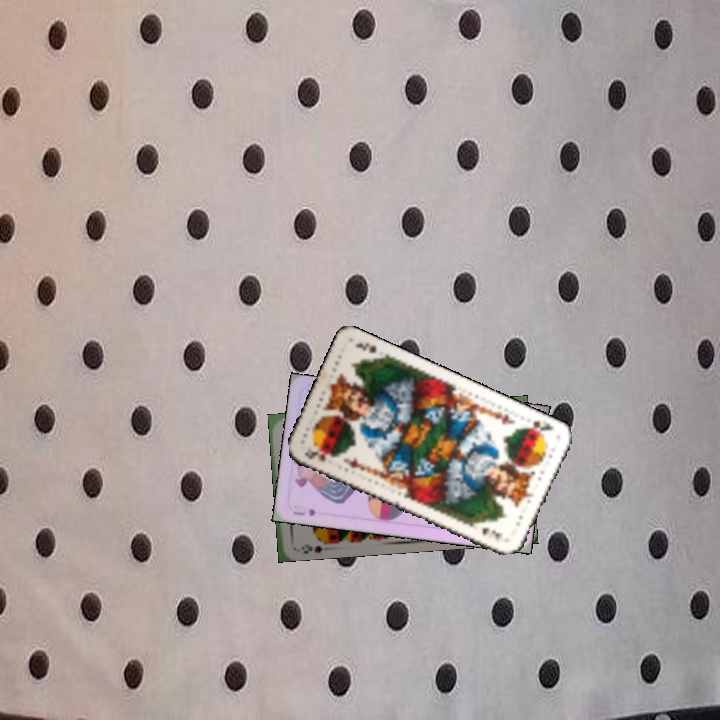S9: (297, 535, 333, 556)
SK: (521, 416, 557, 438), (301, 445, 331, 464)
SU: (290, 505, 318, 518)
